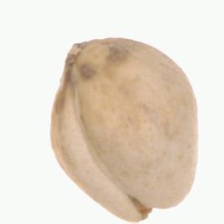L1: (53, 36, 84, 93), (125, 195, 184, 223)
L2: (49, 37, 198, 223)
